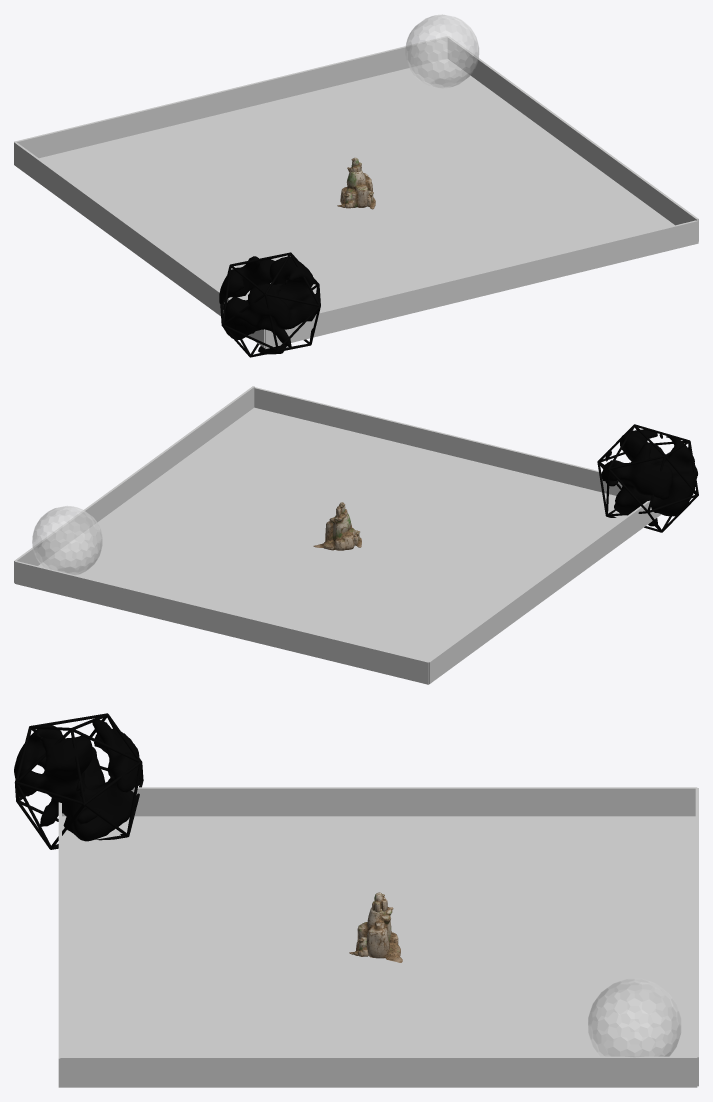
The picture shows the model from 3 angles, top to bottom: view 1: azimuth 30°, elevation 25°; view 2: azimuth 150°, elevation 25°; view 3: azimuth 270°, elevation 25°; orthographic projection. The views are drawn at different scales.
Parts seen in each view (by area): view 1: Floor, Wall, Wall.001, CagedMatterBaked, Wall.003, Wall.002, DarkSphere, Rock; view 2: Floor, Wall.001, Wall, CagedMatterBaked, Wall.002, Wall.003, DarkSphere, Rock; view 3: Floor, Wall.003, Wall.002, CagedMatterBaked, DarkSphere, Rock, Wall.001, Wall.
Boxes of the visible parts, <box> form: Floor: <box>39,59,674,311</box>; Wall: <box>264,220,698,348</box>; Wall.001: <box>14,36,447,158</box>; CagedMatterBaked: <box>219,252,320,357</box>; Wall.003: <box>448,36,698,241</box>; Wall.002: <box>14,142,264,347</box>; DarkSphere: <box>405,14,478,88</box>; Rock: <box>340,169,373,207</box>; Floor: <box>15,407,627,684</box>; Wall.001: <box>14,561,428,683</box>; Wall: <box>254,387,622,495</box>; CagedMatterBaked: <box>597,424,698,532</box>; Wall.002: <box>428,500,661,683</box>; Wall.003: <box>14,386,254,582</box>; DarkSphere: <box>32,506,102,574</box>; Rock: <box>313,513,354,550</box>; Floor: <box>62,816,697,1087</box>; Wall.003: <box>60,1056,697,1086</box>; Wall.002: <box>62,787,697,816</box>; CagedMatterBaked: <box>14,713,143,849</box>; DarkSphere: <box>588,979,680,1056</box>; Rock: <box>357,907,402,962</box>; Wall.001: <box>695,788,698,1086</box>; Wall: <box>58,802,61,1087</box>.
Size of the model in its own units: 436 by 88.96 by 430.
Materials: 3 (1 with a texture image).
